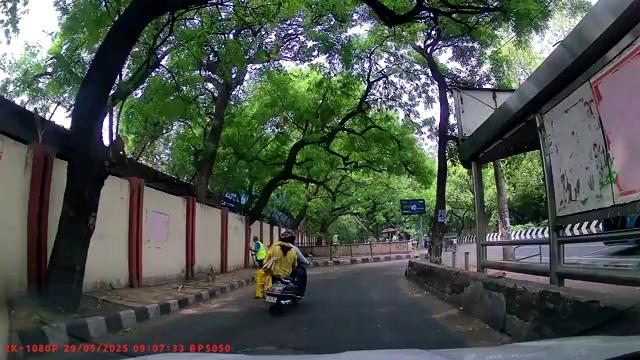passenger_with_helmet: (255, 231, 310, 317)
